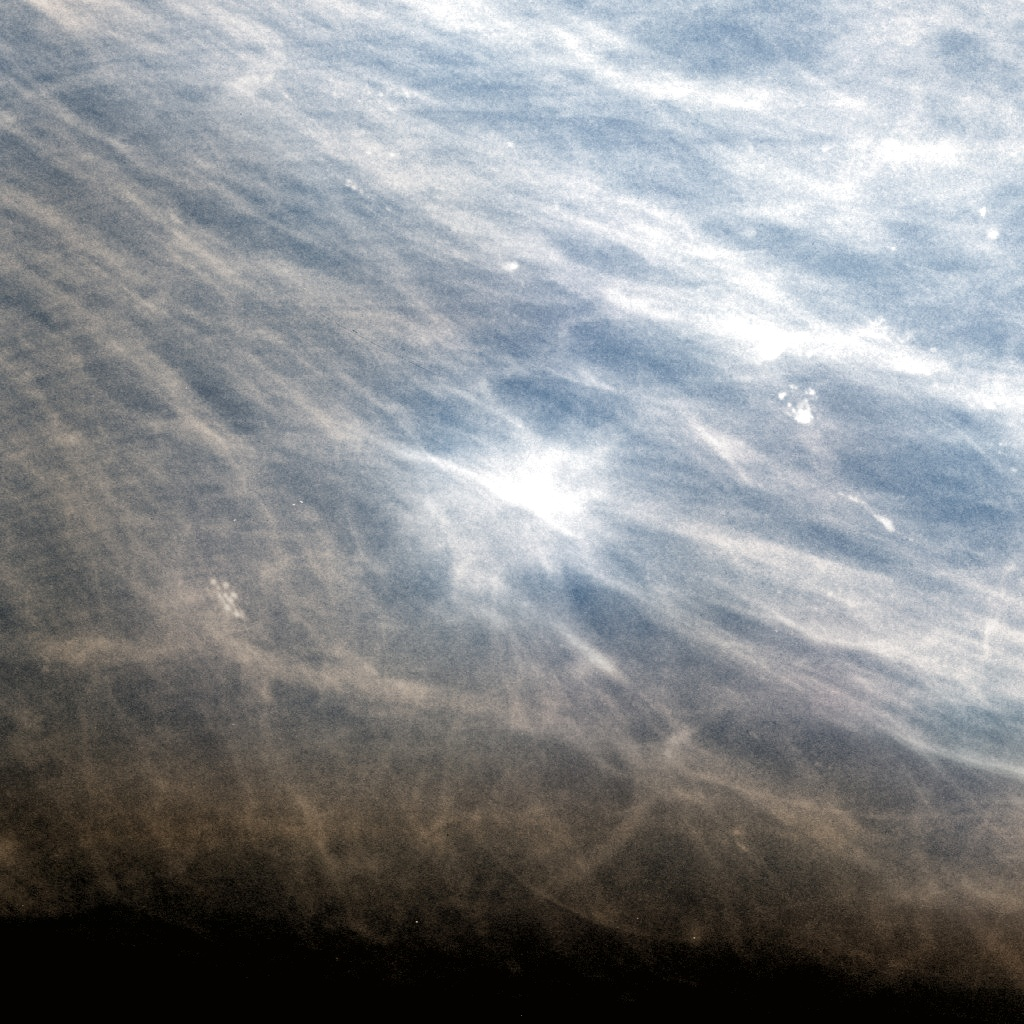tumor: (358, 369, 666, 655)
